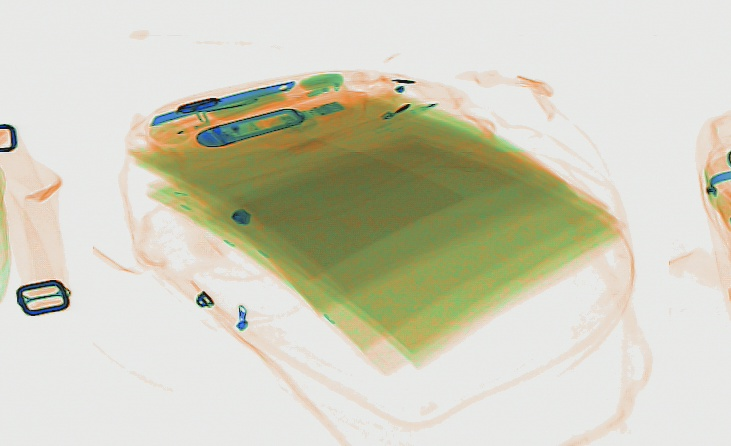knife: (146, 76, 298, 127)
